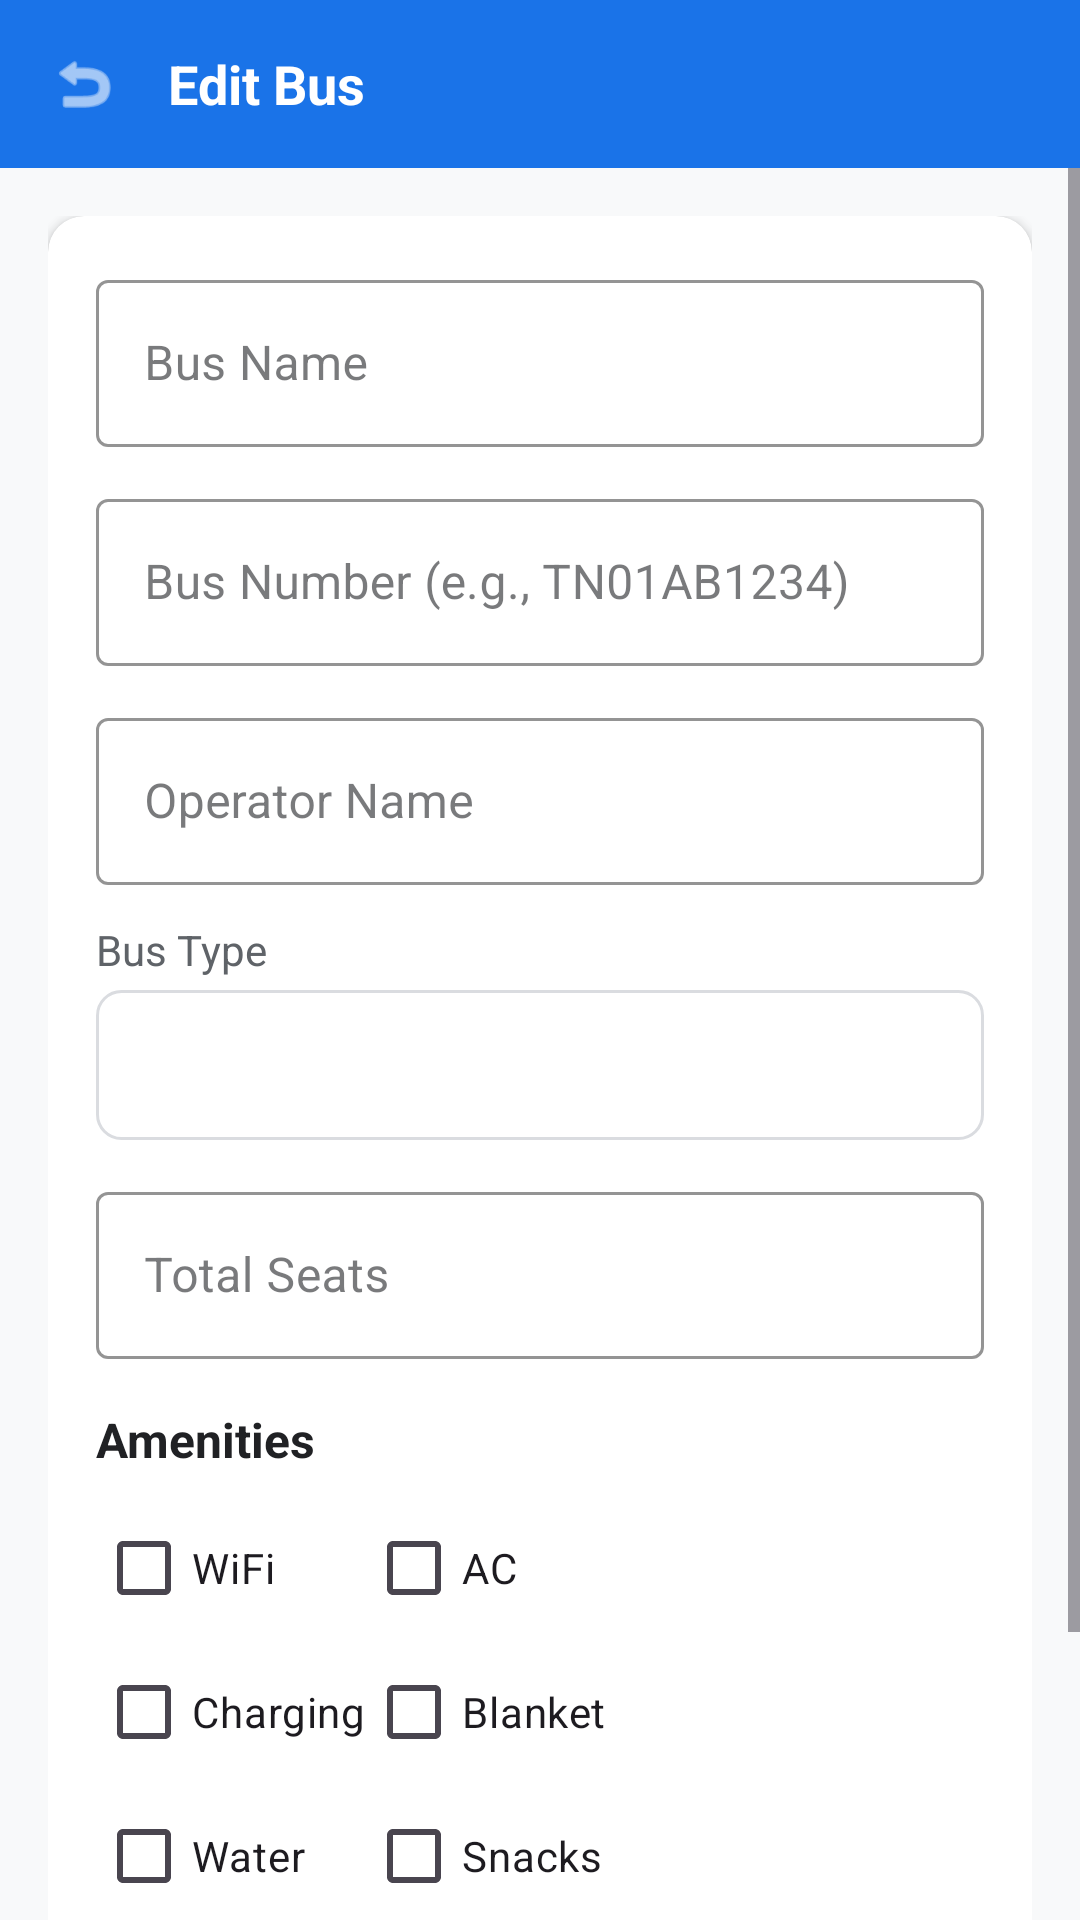

Icons on this 1080 x 1920 Android screen, each with its box as {"left": x1, "top": y1, "right": x2, "bottom": y2}:
Back: {"left": 59, "top": 61, "right": 111, "bottom": 108}
